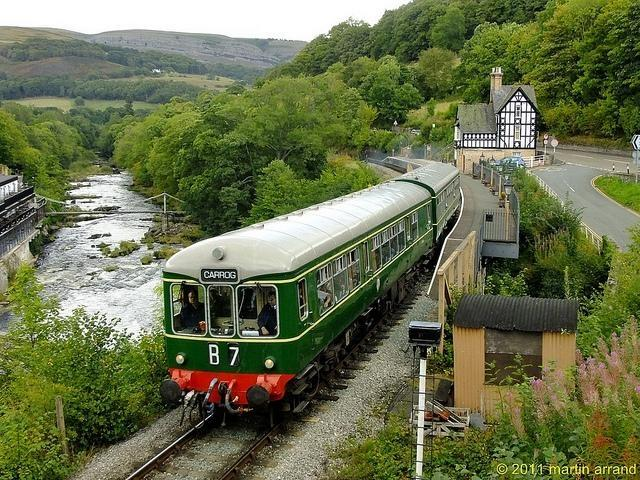car: (492, 155, 526, 166)
